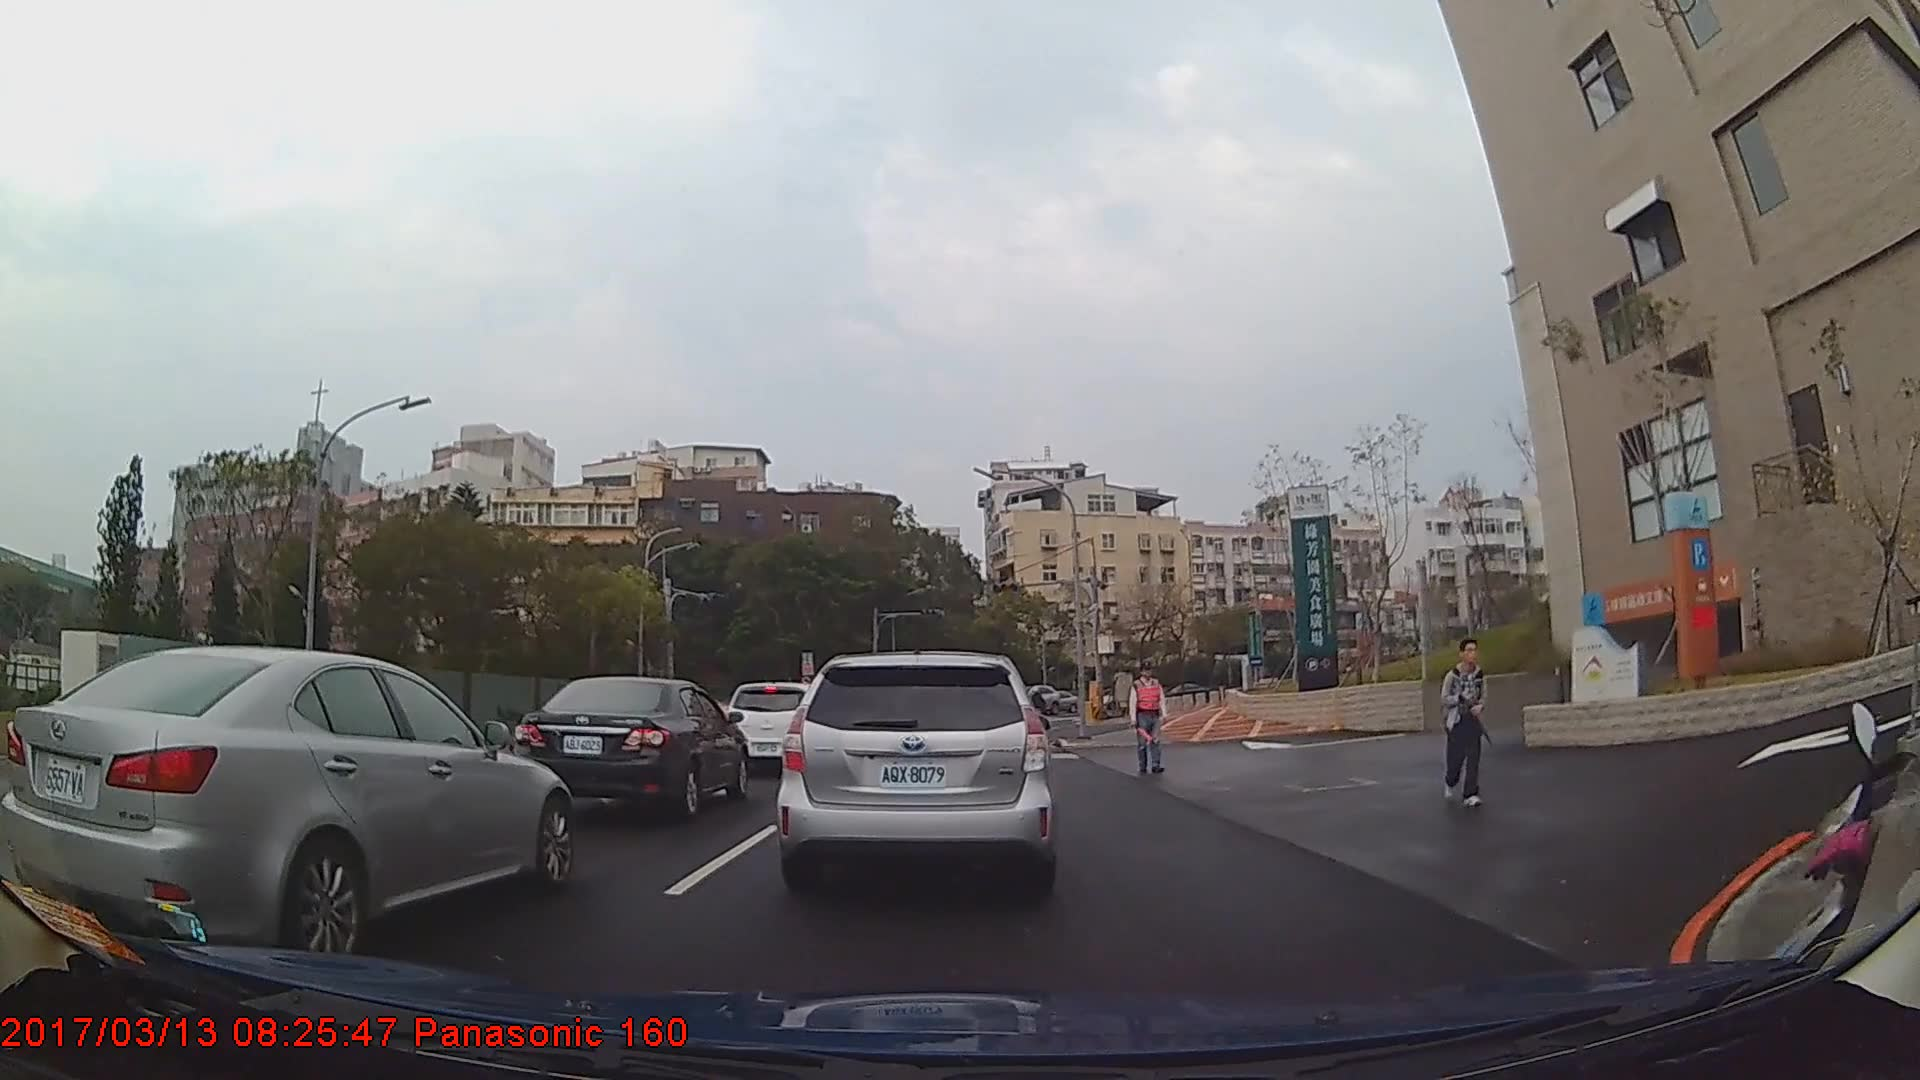pedestrian: (1438, 634, 1490, 807), (1133, 662, 1172, 776)
vehicle: (0, 643, 570, 971), (774, 650, 1056, 902), (515, 673, 748, 817), (723, 677, 826, 769), (1040, 687, 1080, 716)
